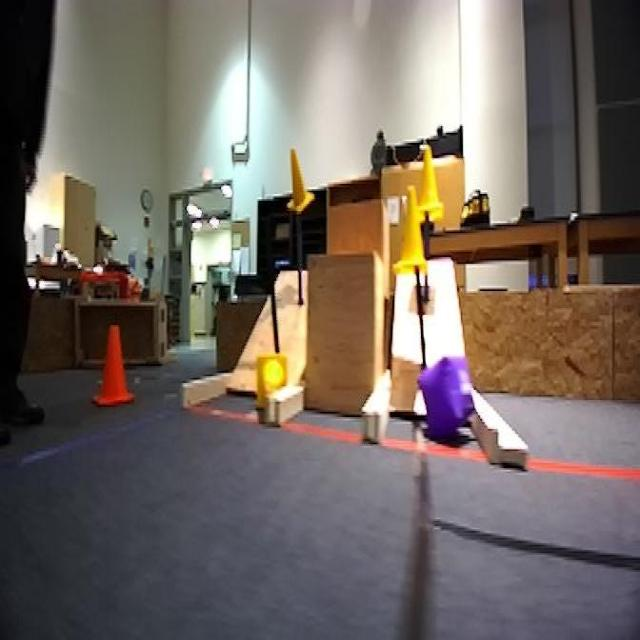frc_cone: (397, 186, 432, 276), (413, 146, 445, 222), (255, 351, 288, 412), (286, 146, 314, 214)
frc_cube: (414, 347, 474, 439)
